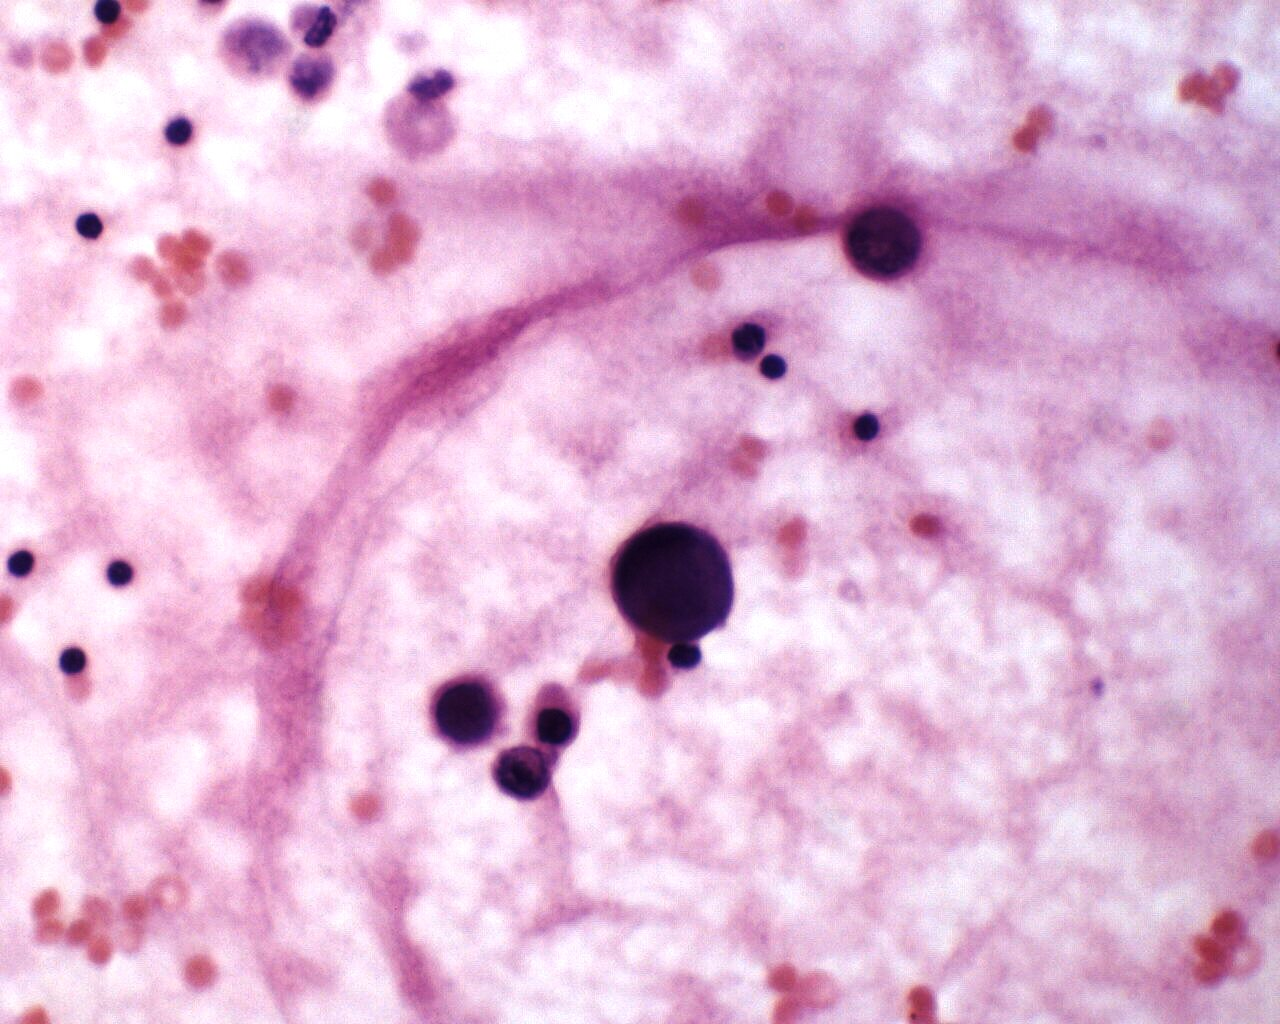ab: (604, 515, 744, 639)
lymph: (94, 543, 148, 600), (757, 344, 802, 396), (156, 104, 203, 154), (70, 203, 114, 250), (54, 636, 91, 692)
